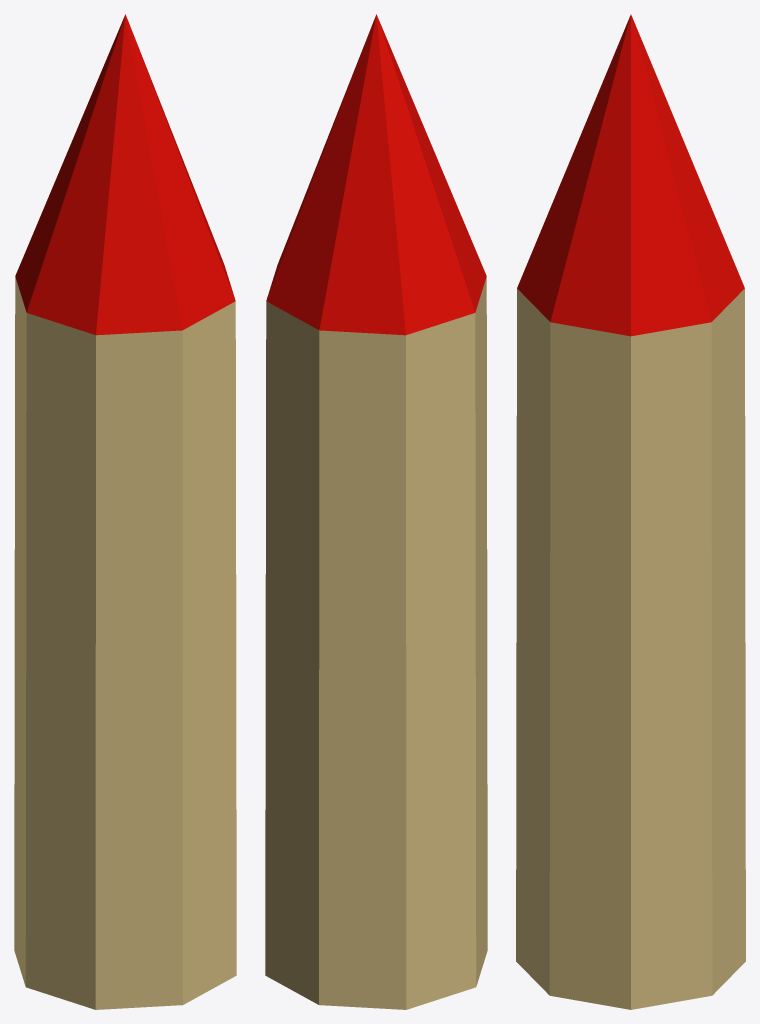
File: Bullet.fbx
3 views of the same model, side by side, from view 1: azimuth 30°, elevation 25°; view 2: azimuth 150°, elevation 25°; view 3: azimuth 270°, elevation 25° (orthographic).
Parts seen in each view (by area): view 1: Cylinder; view 2: Cylinder; view 3: Cylinder.
Boxes of the visible parts, <box> form: Cylinder: <box>14,14,236,1009</box>; Cylinder: <box>265,14,487,1009</box>; Cylinder: <box>516,14,745,1009</box>.
Bounding box in the file's own units: 39.11 × 178 × 39.11.
